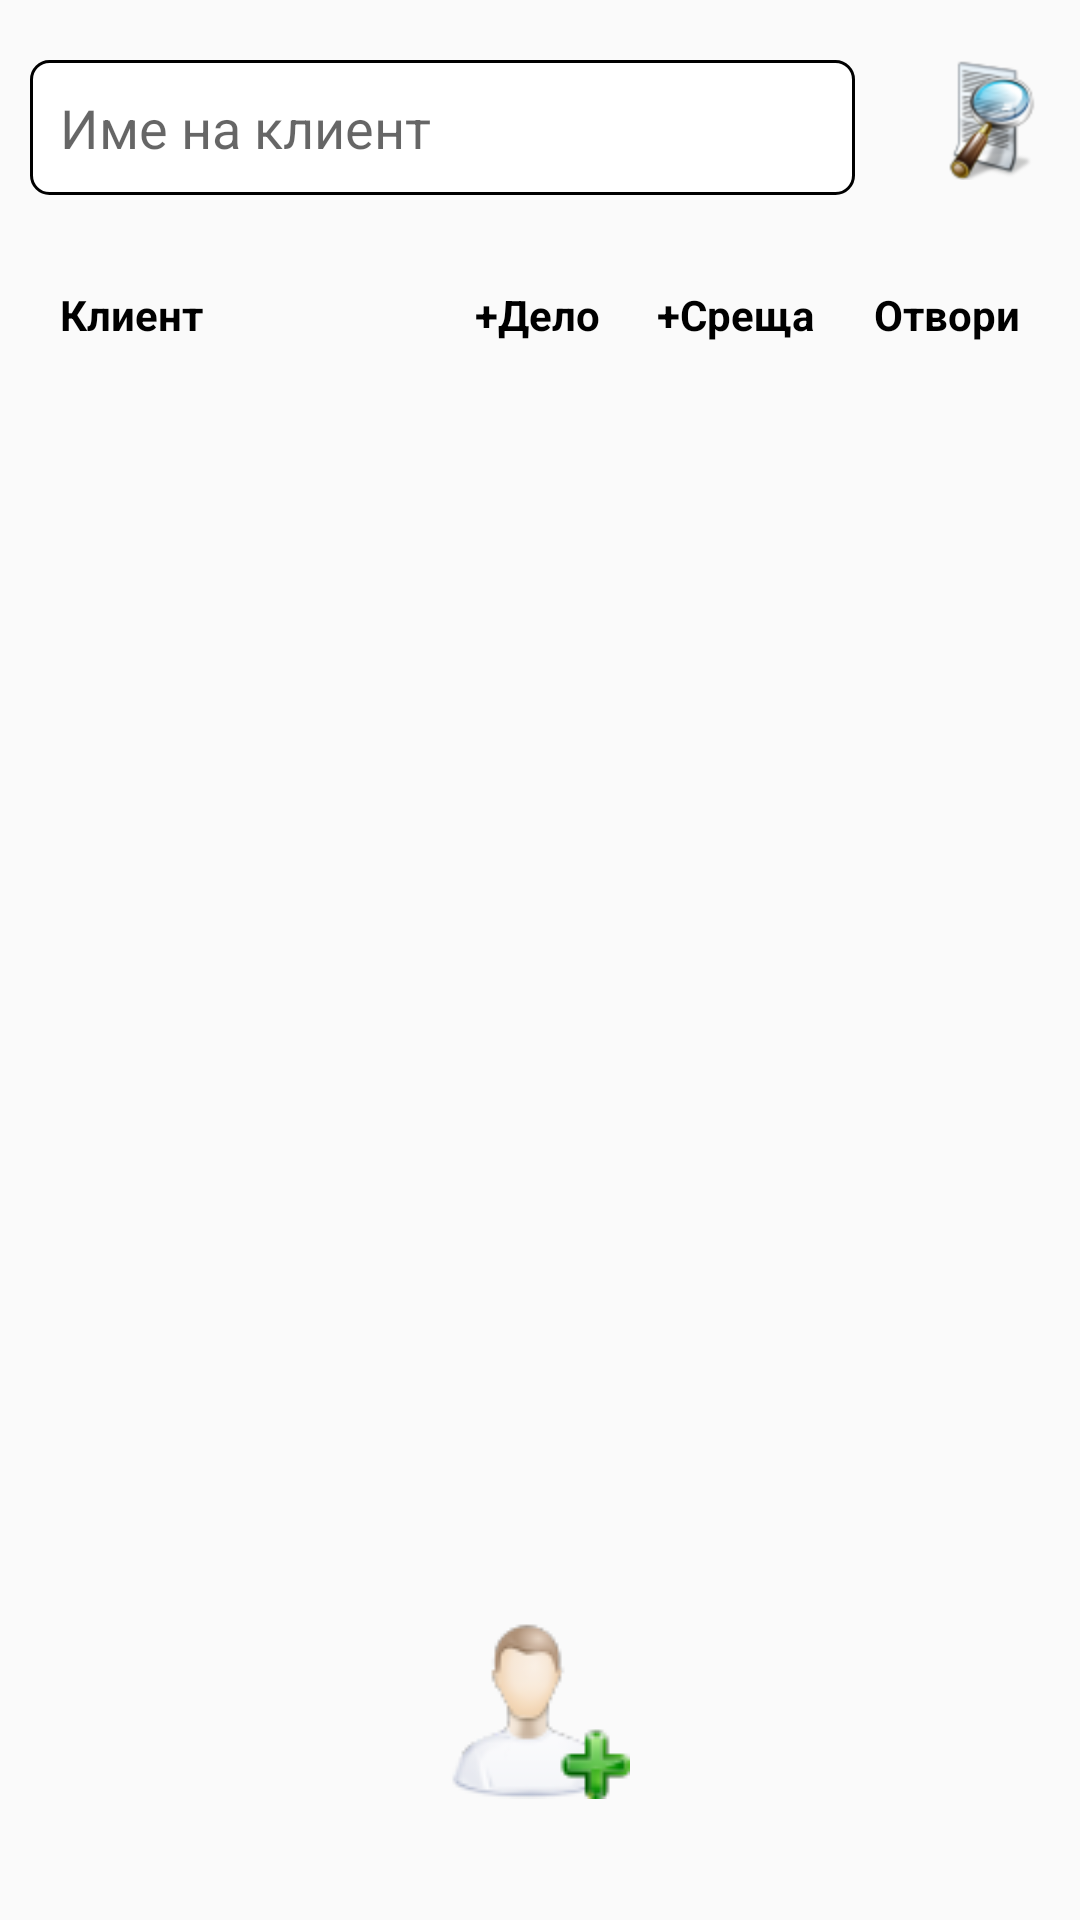

Point at icon controls on the screen. Image size 1080×1920, points as (x,y).
addclient: (542,1711)
search: (991,121)
